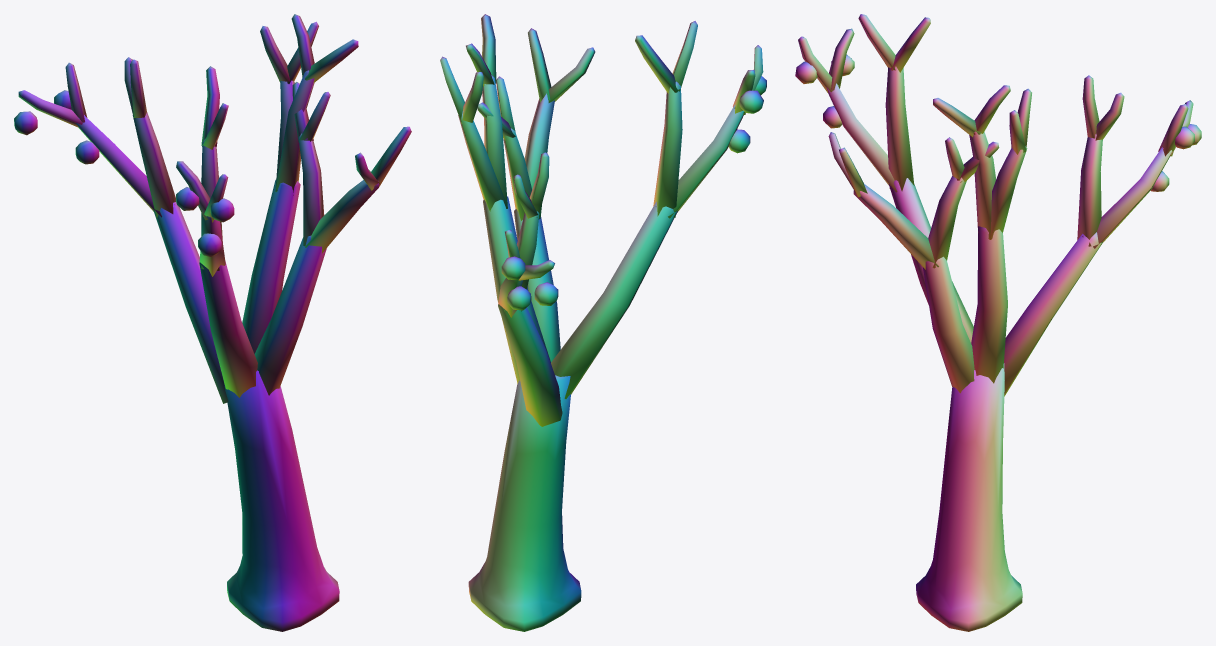
Rendered from SM_Foliage_March_CharredOrchard_A_LOD1.fbx.
3 renders of one model, left to right at view 1: azimuth 30°, elevation 25°; view 2: azimuth 150°, elevation 25°; view 3: azimuth 270°, elevation 25°, orthographic. The views are drawn at different scales.
Visible parts, largest first — view 1: SM_Foliage_March_CharredOrchard_A_LOD1; view 2: SM_Foliage_March_CharredOrchard_A_LOD1; view 3: SM_Foliage_March_CharredOrchard_A_LOD1.
Part boxes in pixels (x1,y1,x2,y2): SM_Foliage_March_CharredOrchard_A_LOD1: (14,14,411,631); SM_Foliage_March_CharredOrchard_A_LOD1: (440,14,766,631); SM_Foliage_March_CharredOrchard_A_LOD1: (795,14,1201,631).
Size of the model in its own units: 1.3 by 3.06 by 2.07.
